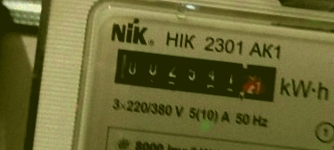0: (124, 54, 140, 76), (145, 54, 160, 77)
1: (223, 65, 237, 86)
2: (165, 58, 179, 79)
4: (205, 62, 219, 84)
5: (184, 59, 198, 83)
6: (244, 80, 257, 96)
screen: (102, 36, 289, 113)
